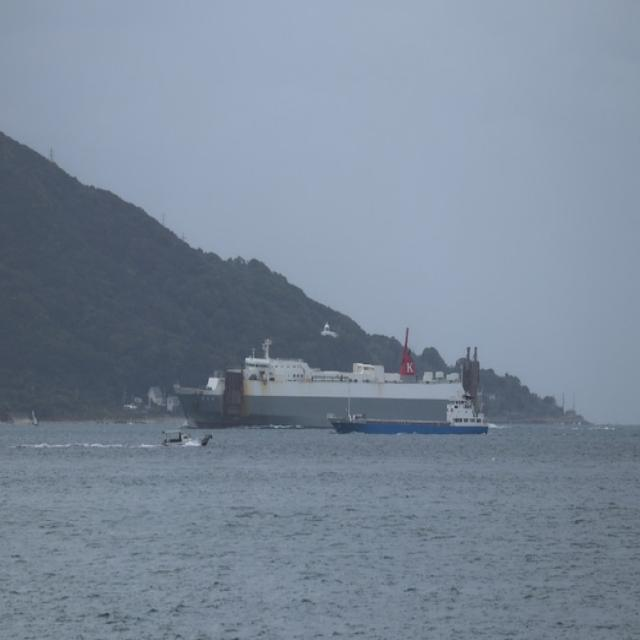passenger ship: (196, 325, 479, 417), (324, 389, 492, 428)
